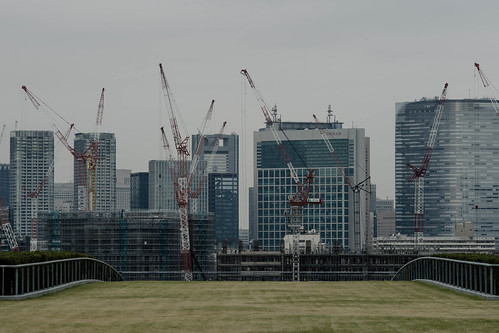building: (243, 121, 371, 251), (393, 97, 499, 253), (191, 133, 242, 253), (10, 127, 52, 250), (72, 132, 121, 214), (144, 159, 208, 213)
crane: (236, 77, 321, 245), (22, 84, 111, 211), (146, 66, 198, 280), (316, 125, 373, 250), (408, 79, 447, 251)
sky: (2, 1, 499, 105)
